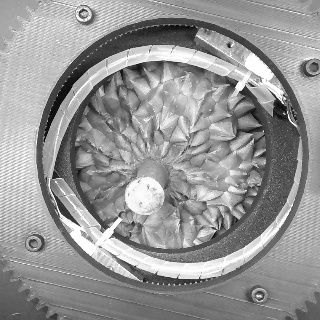base: (129, 156, 180, 190)
end: (124, 176, 165, 216)
